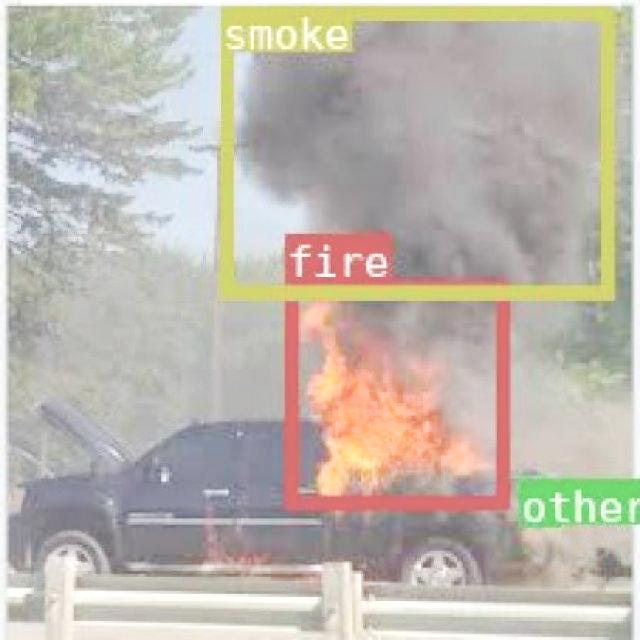fire: (283, 280, 508, 506)
smoke: (219, 4, 610, 296)
